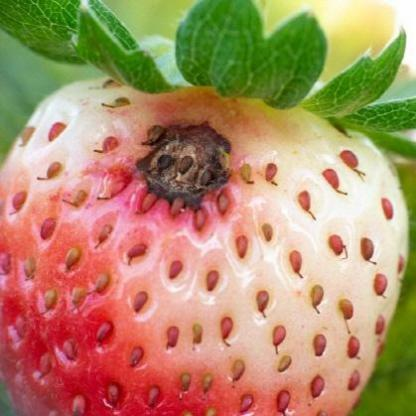Strawberry_Anthracnose_Fruit_Rot: (116, 104, 258, 232)
